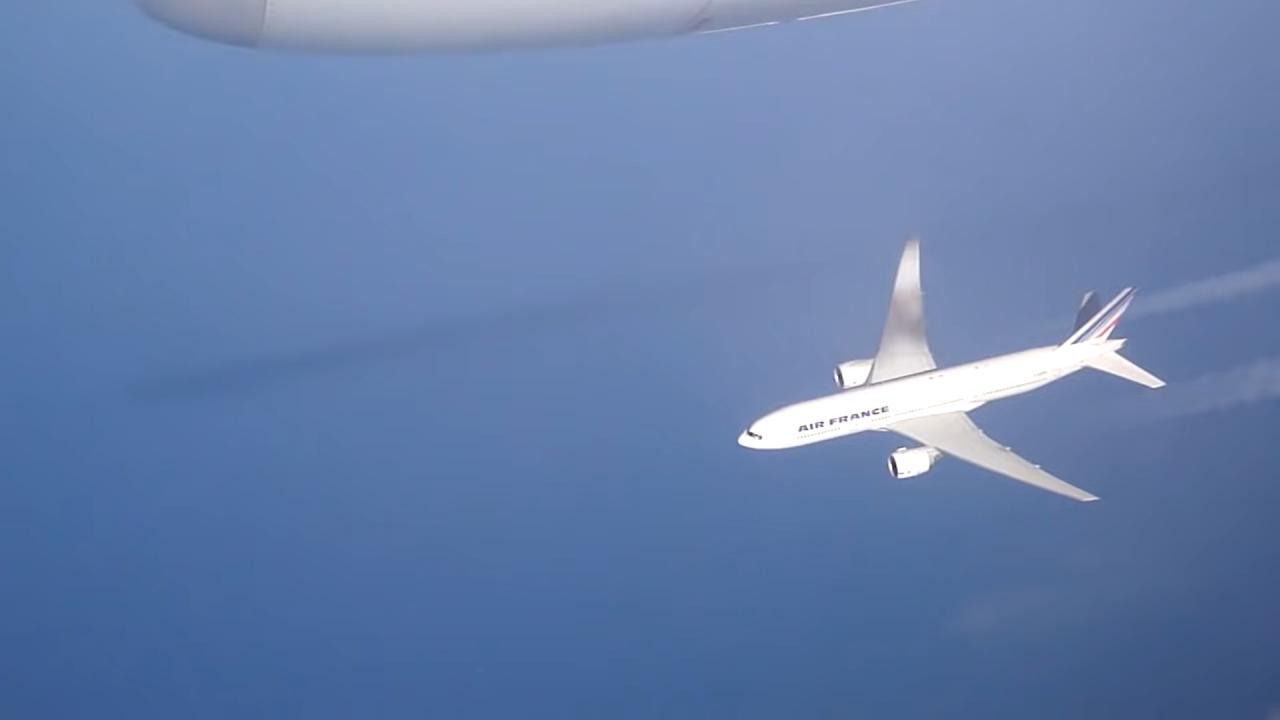Airplane: (730, 227, 1181, 513)
